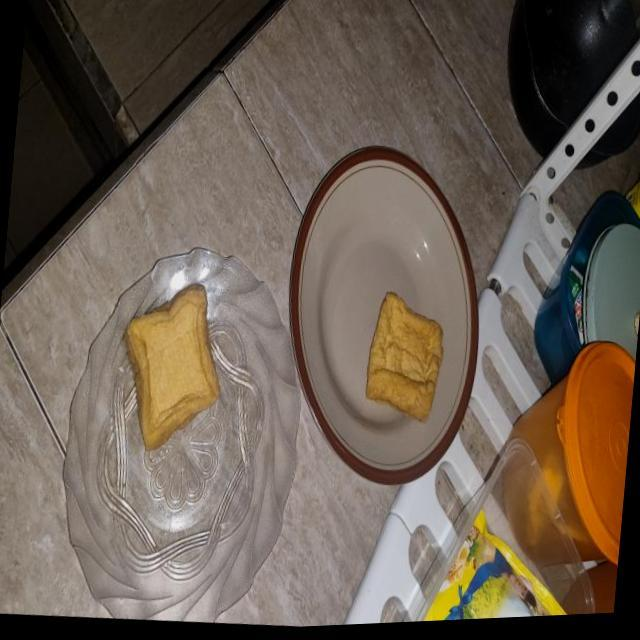tahu_goreng: (124, 284, 220, 450), (366, 292, 442, 422)
